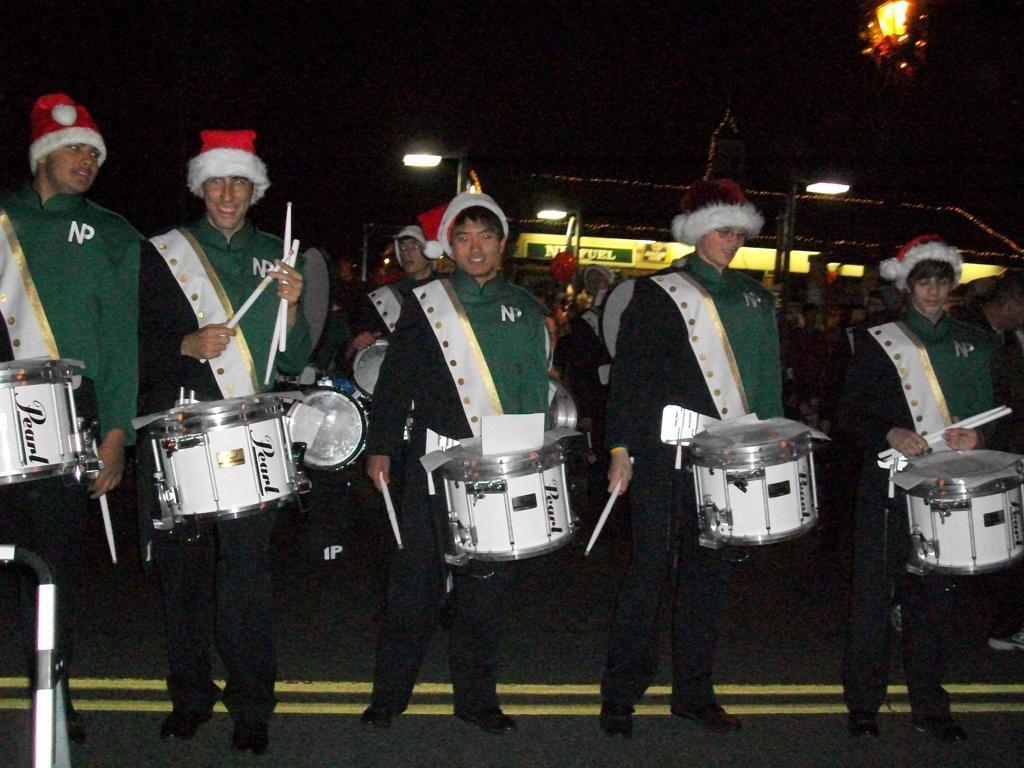face: (205, 172, 252, 227), (455, 219, 499, 275), (52, 142, 101, 192), (709, 225, 748, 266), (916, 274, 951, 315), (399, 238, 428, 273), (1009, 298, 1024, 333), (589, 272, 607, 294), (868, 298, 884, 319), (338, 259, 353, 277), (806, 312, 817, 325)
